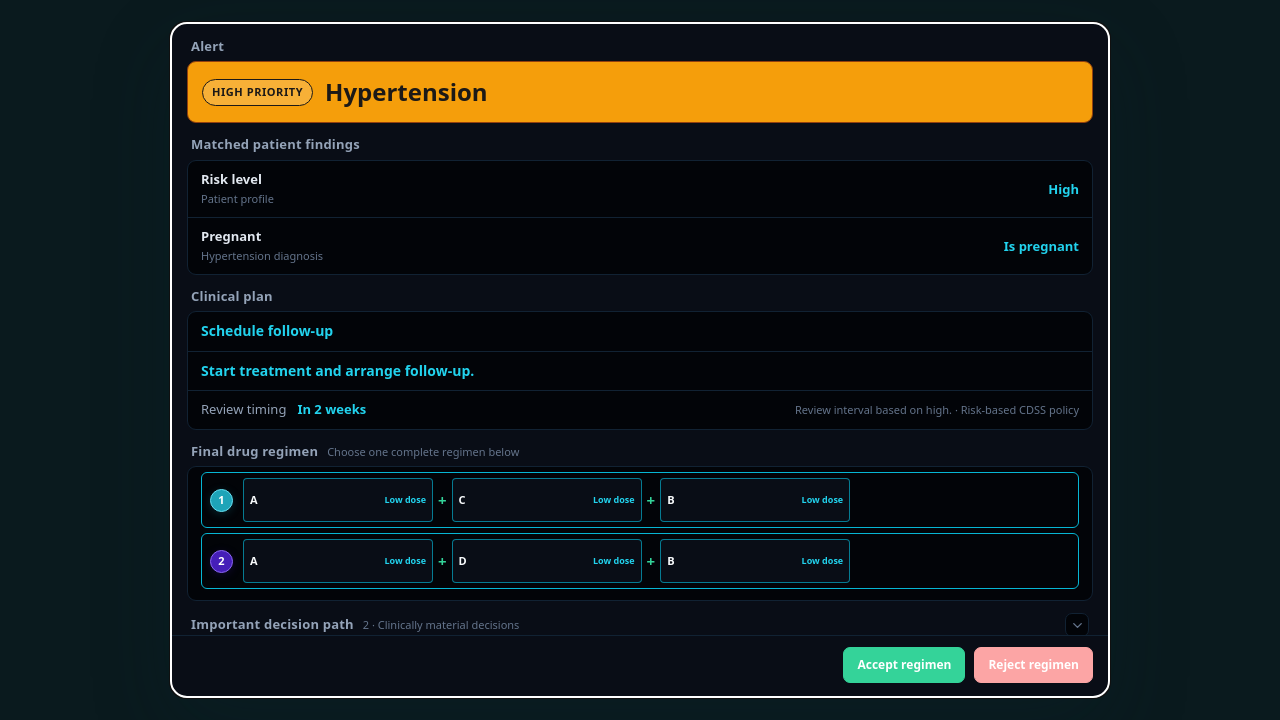
TraversalResultModal › renders alternative bases as complete OR regimens with additions in both
expect the number of elements with class "cds-final-regimen" is 2: met, box x1=201 y1=472 x2=1079 y2=528; x1=201 y1=533 x2=1079 y2=589
expect the text "Choose one complete regimen below" is shown: met, box x1=327 y1=444 x2=519 y2=460
Click the button named "Show details for regimen 1". click: click(222, 500)
box: x1=210 y1=489 x2=233 y2=512
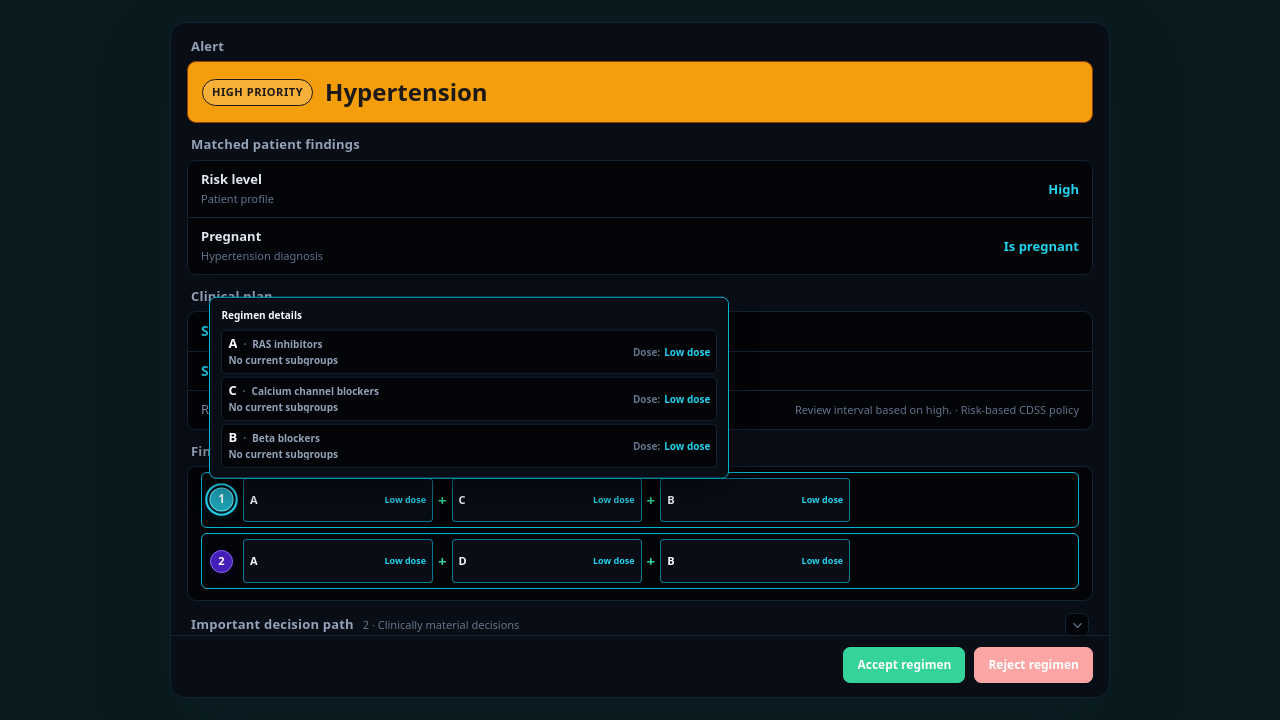
expect the tooltip is shown: met, box x1=209 y1=297 x2=729 y2=479
Click the button named "Show details for regimen 1". click: click(221, 499)
box: x1=209 y1=487 x2=234 y2=511
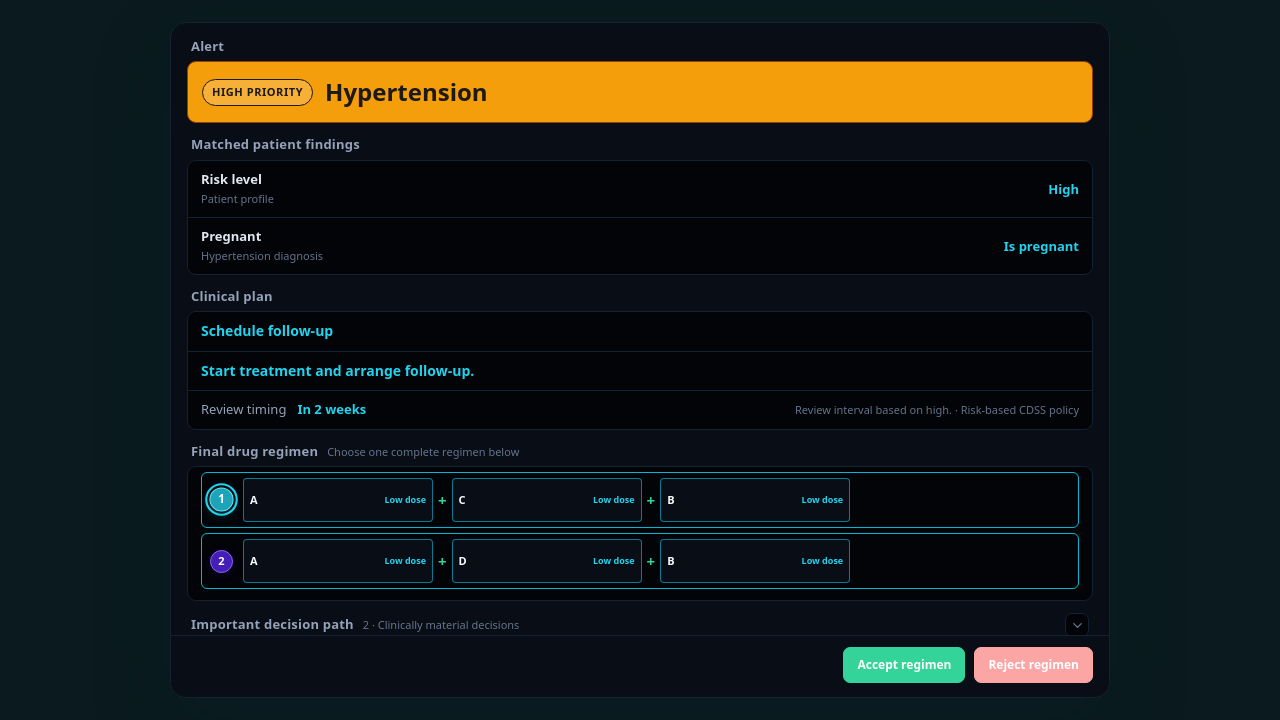
expect the tooltip is gone: met
